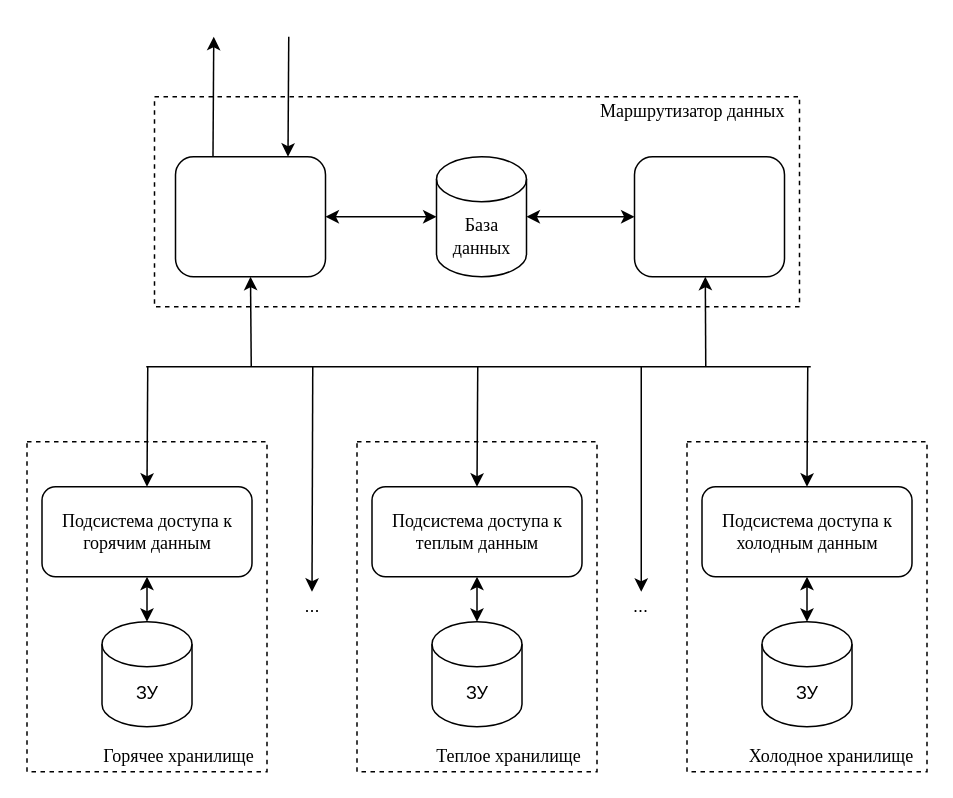
The diagram is 953 pixels wide and 798 high, and some of its shapes have lost their labels. Here are the shapes that lost their labels. From the top down, the centre of each, then its label:
At (x=250, y=216): "Подсистема доступа к данным".
At (x=708, y=216): "Подсистема управления данными".
